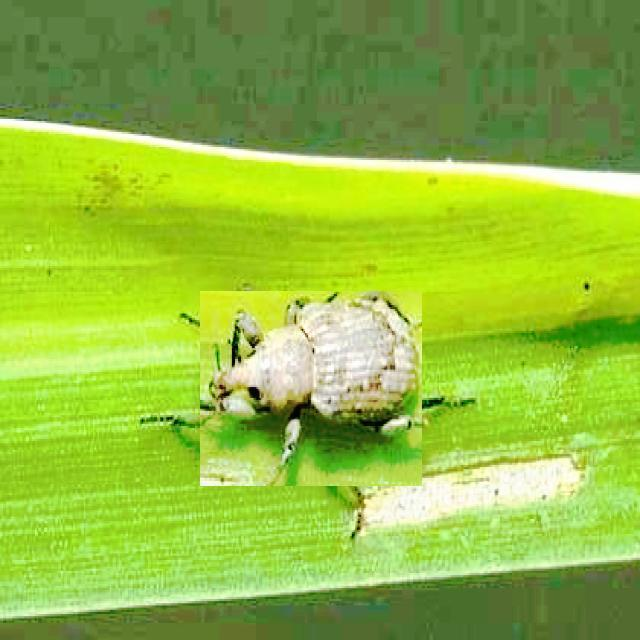rice-bug: (201, 291, 423, 486)
